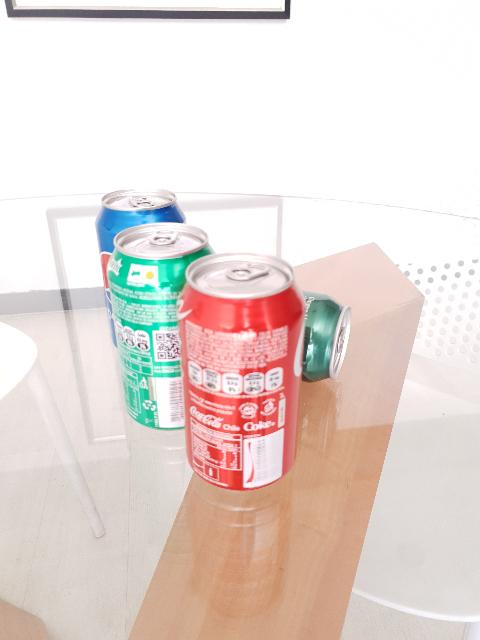coke: (179, 253, 305, 485)
pepsi: (96, 188, 184, 346)
schweppes: (292, 294, 347, 380)
sprite: (112, 218, 210, 430)
